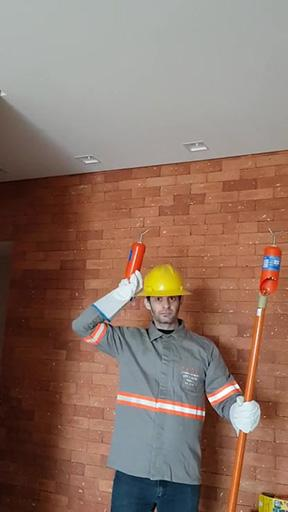Detector_Tensao_Contato: (257, 227, 285, 298), (124, 227, 151, 284)
Vara_Manobra: (226, 296, 269, 512)
